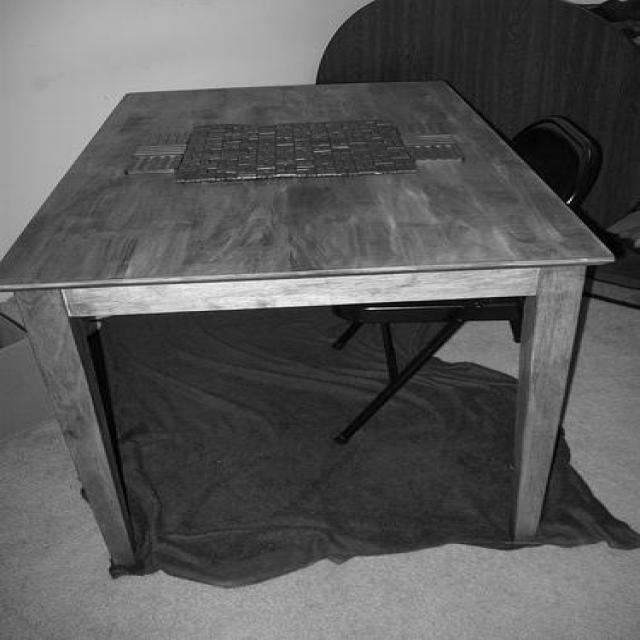table: (1, 77, 614, 573)
